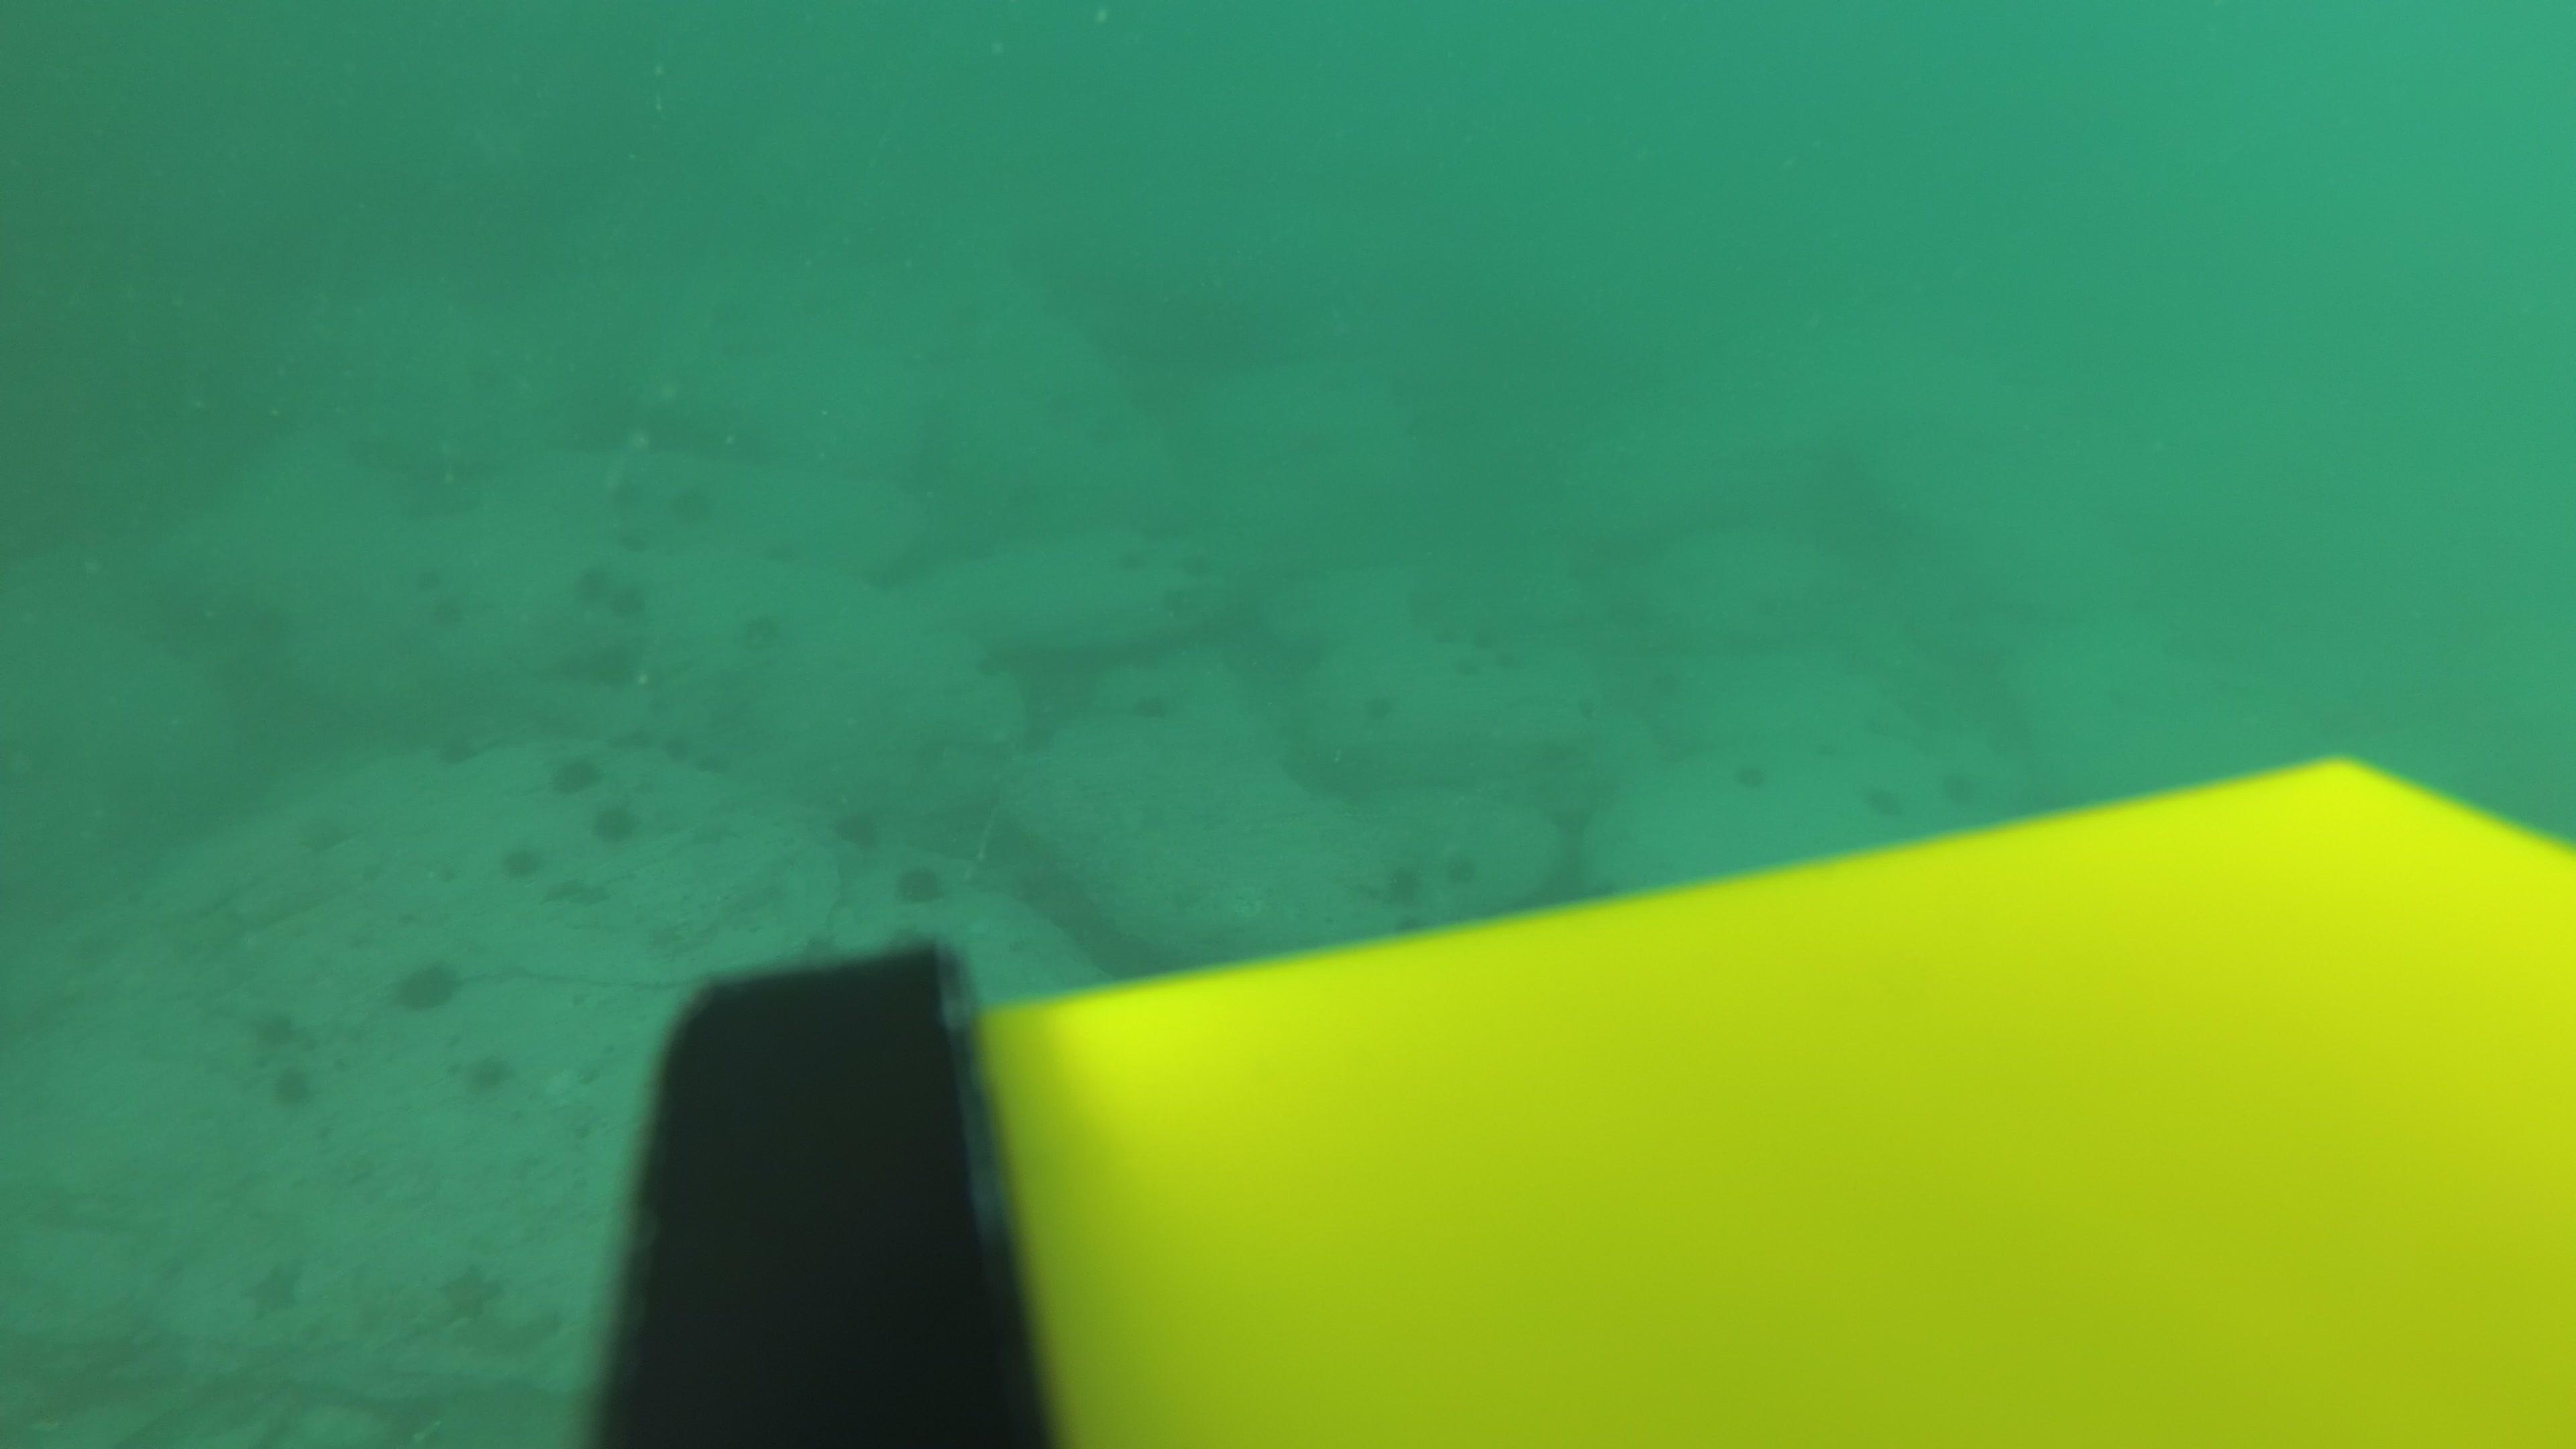echinus: (571, 559, 648, 619), (391, 954, 464, 1016), (580, 637, 644, 692), (832, 800, 885, 853), (893, 858, 948, 908), (249, 1003, 303, 1053), (1357, 686, 1407, 740), (1730, 748, 1780, 801), (1930, 763, 1980, 816), (1568, 674, 1617, 727), (550, 748, 602, 798), (462, 1049, 513, 1099), (1408, 617, 1458, 669), (1378, 853, 1426, 906), (1430, 846, 1477, 899), (1454, 616, 1502, 669), (1476, 633, 1523, 686), (1861, 777, 1909, 830), (591, 800, 640, 849), (1385, 897, 1433, 948), (1442, 648, 1490, 699), (1982, 715, 2029, 766), (1635, 656, 1683, 708), (269, 1065, 317, 1113), (740, 605, 786, 653), (499, 837, 545, 883), (653, 722, 697, 768), (750, 522, 794, 568), (671, 485, 715, 531), (609, 471, 653, 517), (610, 515, 655, 561), (410, 563, 455, 609), (1134, 683, 1178, 729), (1092, 407, 1136, 453), (904, 536, 950, 580), (435, 732, 479, 777), (685, 738, 729, 782), (432, 596, 476, 640), (1155, 580, 1200, 625), (1168, 545, 1212, 589), (1106, 536, 1150, 580), (1033, 384, 1077, 428), (1012, 724, 1056, 768), (970, 533, 1014, 577), (863, 550, 908, 594), (1805, 727, 1844, 766), (1723, 623, 1762, 662), (1859, 711, 1897, 750), (1288, 419, 1327, 456), (1297, 635, 1336, 672)
starfish: (435, 1258, 504, 1322), (246, 1256, 306, 1318), (297, 807, 356, 856), (545, 874, 610, 911)
